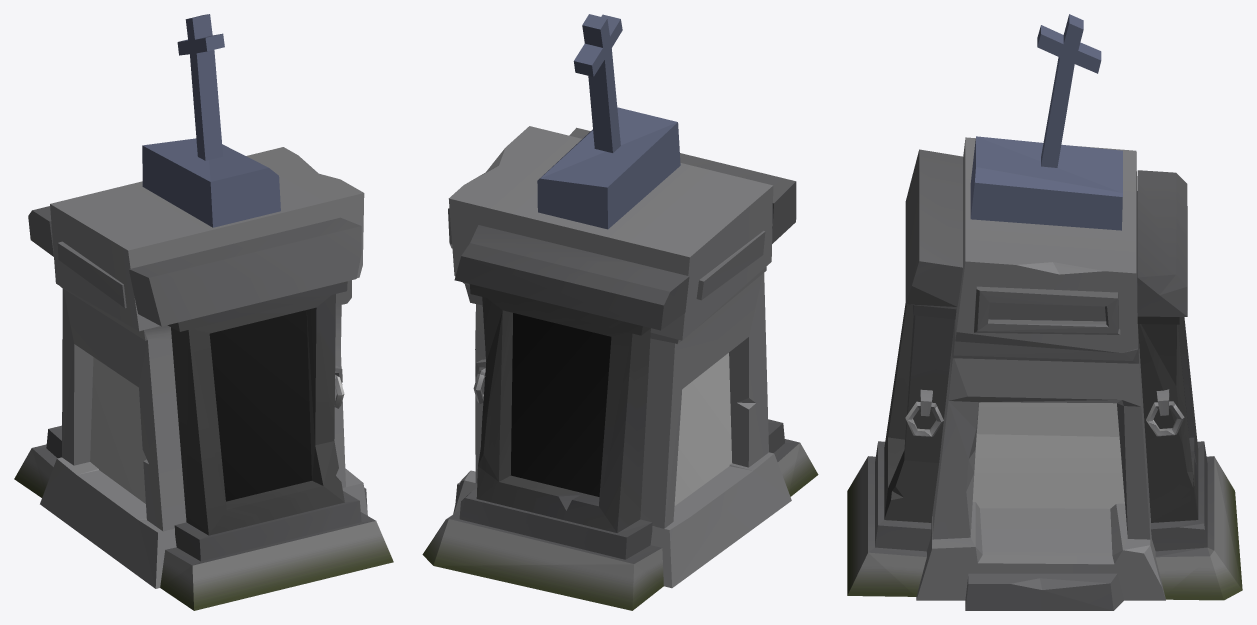
File: ea_bld_tomb_niche_clean_class_b_01a_pre_lev1.glb
3 renders of one model, left to right at view 1: azimuth 30°, elevation 25°; view 2: azimuth 150°, elevation 25°; view 3: azimuth 270°, elevation 25°, orthographic. The views are drawn at different scales.
Parts seen in each view (by area): view 1: ea_bld_tomb_niche_clean_class_b_01a_pre_lev1; view 2: ea_bld_tomb_niche_clean_class_b_01a_pre_lev1; view 3: ea_bld_tomb_niche_clean_class_b_01a_pre_lev1.
Part boxes in pixels (x1,y1,x2,y2): ea_bld_tomb_niche_clean_class_b_01a_pre_lev1: (14, 14, 393, 610); ea_bld_tomb_niche_clean_class_b_01a_pre_lev1: (422, 14, 818, 610); ea_bld_tomb_niche_clean_class_b_01a_pre_lev1: (847, 14, 1242, 610).
Bounding box in the file's own units: 2.94 × 5.63 × 3.8.
Materials: 1 (1 with a texture image).
